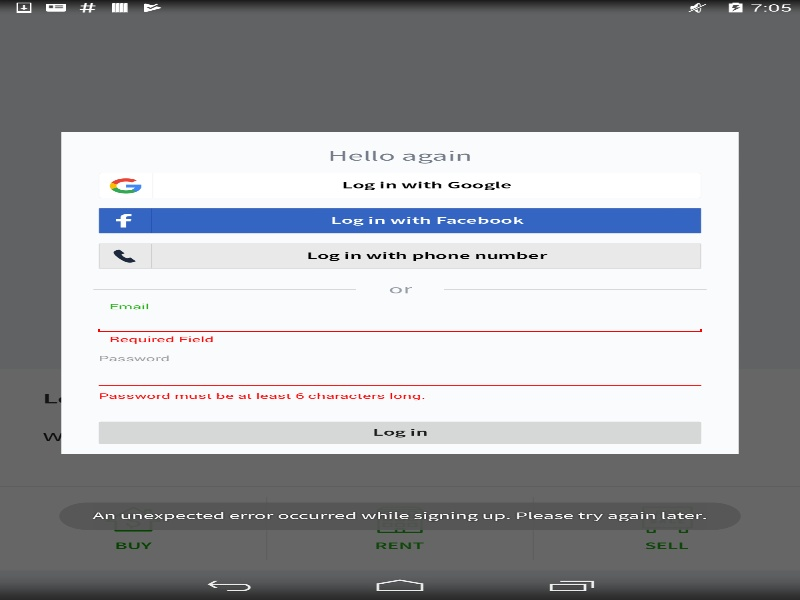Button: (93, 240, 706, 271), (93, 170, 706, 200), (93, 205, 706, 235), (93, 417, 706, 447)
Input: (93, 361, 706, 390), (93, 309, 706, 334)
